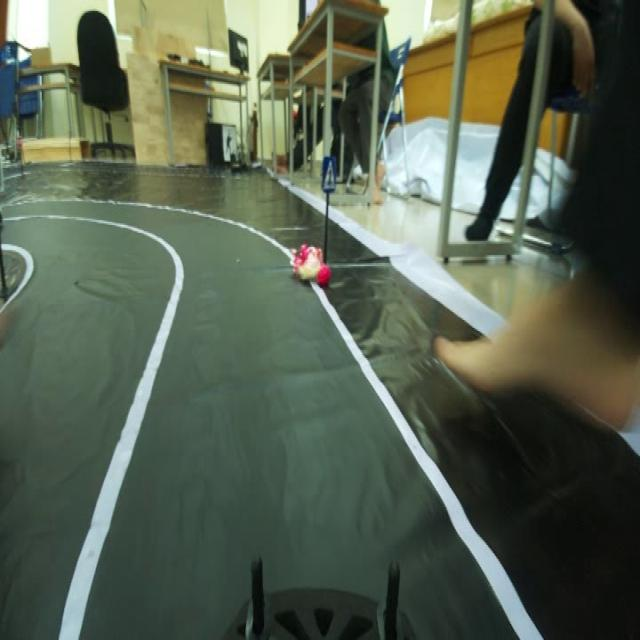crosswalk: (316, 151, 343, 201)
